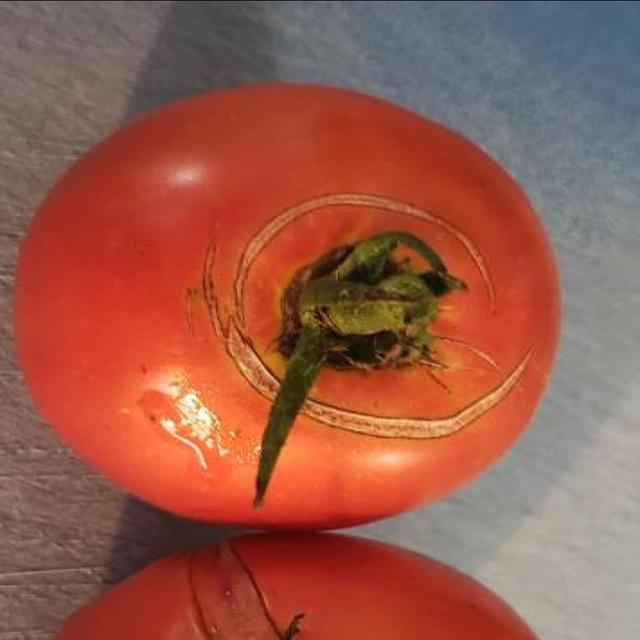Cracking Fruit: (33, 85, 256, 255)
